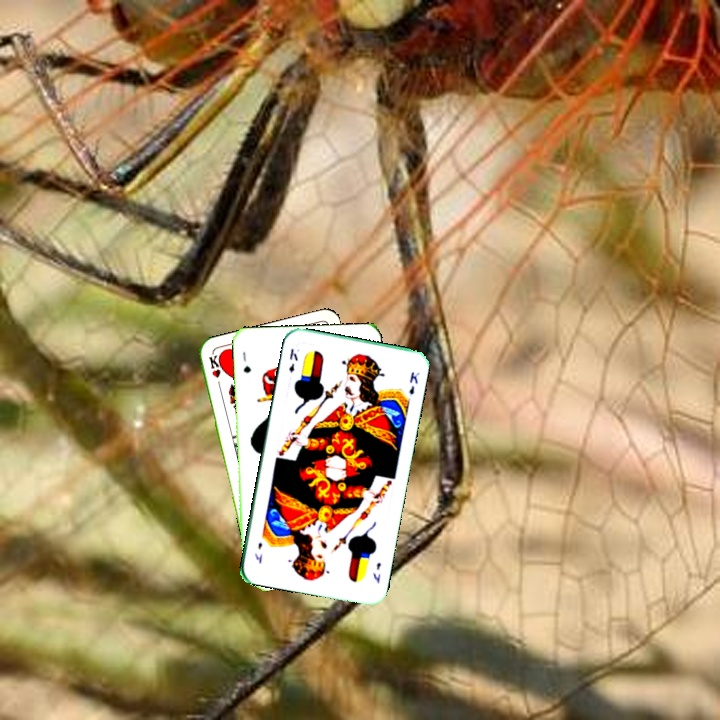EK: (285, 344, 300, 375), (369, 558, 384, 586)
GU: (239, 348, 254, 375)
HK: (205, 351, 224, 392)
